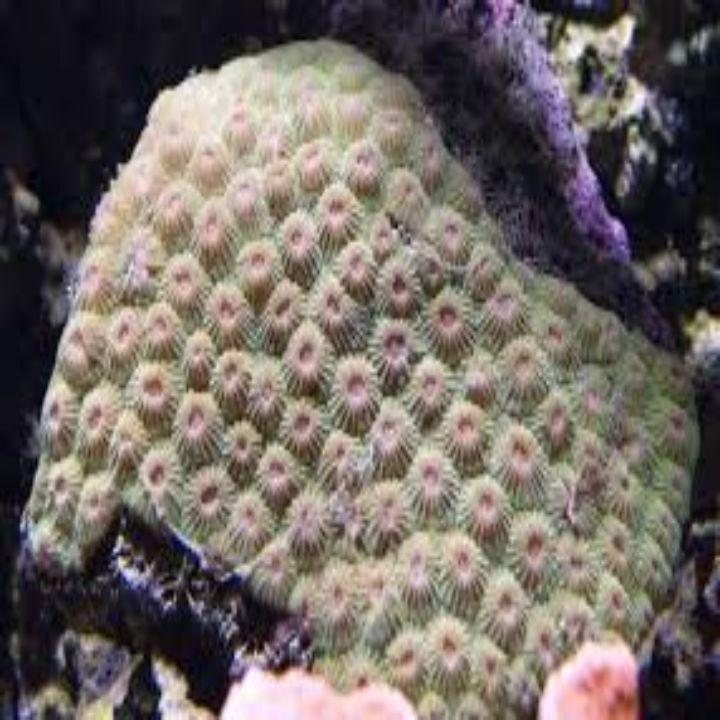Healthy Coral: (36, 51, 692, 675)
